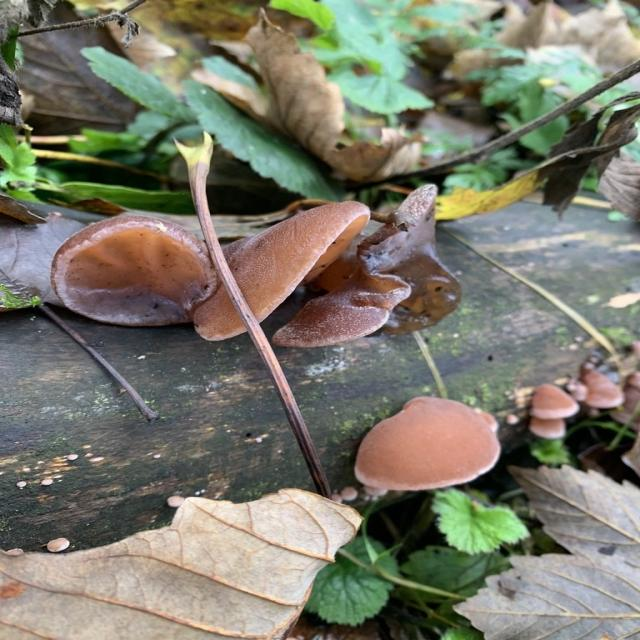Fase Muda: (202, 176, 350, 339), (61, 212, 212, 333), (351, 387, 510, 492), (532, 361, 628, 457)
Matang: (270, 181, 504, 350)
